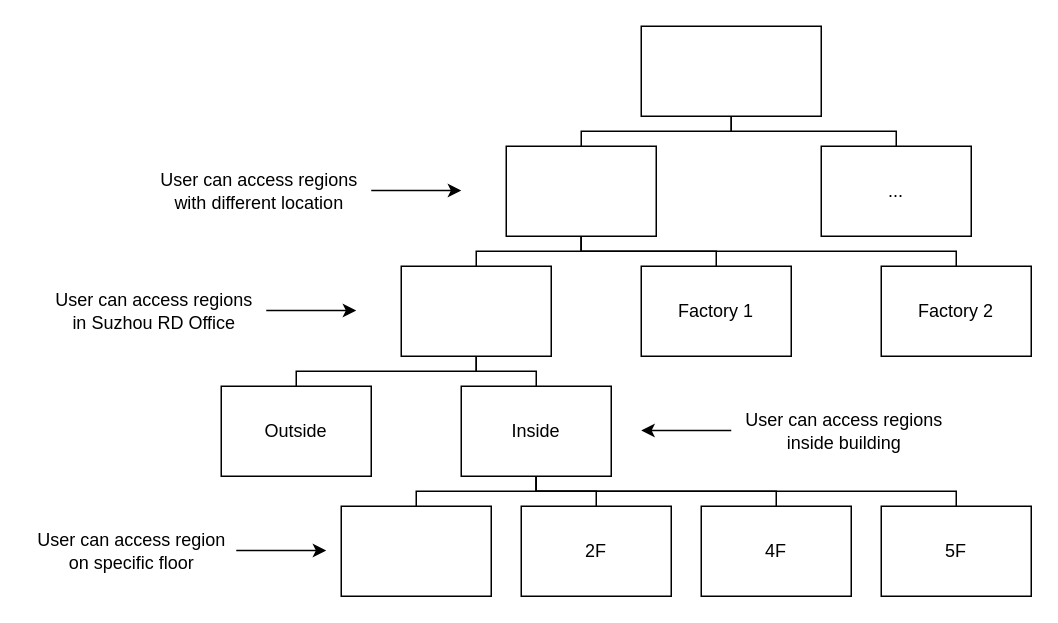
This 1058x623 diagram has some shape labels left out. The shapes that lost their labels are listed below. From the top down, each one's centre as x and y in pixels, then its label:
At (x=730, y=70): "Administrator".
At (x=580, y=190): "Sercomm".
At (x=475, y=310): "Suzhou RD Office".
At (x=415, y=550): "1F".
